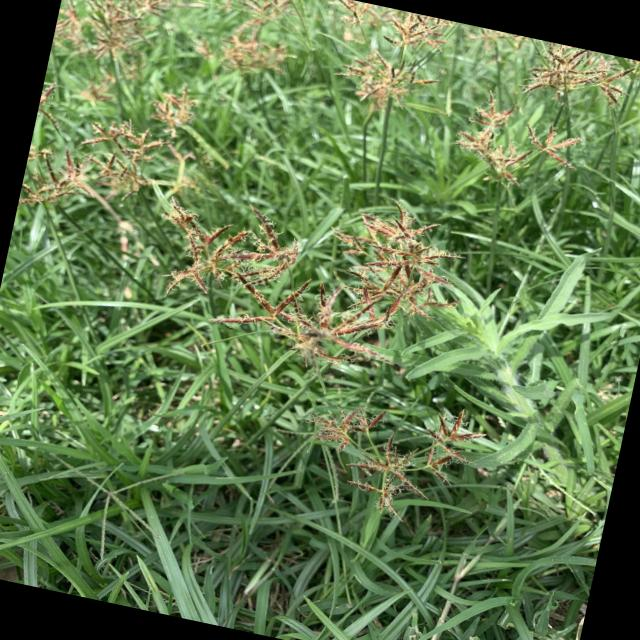cyperus: (134, 150, 473, 400), (286, 372, 490, 532), (442, 82, 588, 210), (320, 0, 456, 106), (175, 0, 309, 85), (49, 0, 186, 79), (524, 38, 640, 114), (87, 118, 176, 200), (18, 142, 98, 214), (147, 75, 206, 141), (462, 24, 525, 60), (74, 71, 120, 113), (35, 81, 69, 129)
